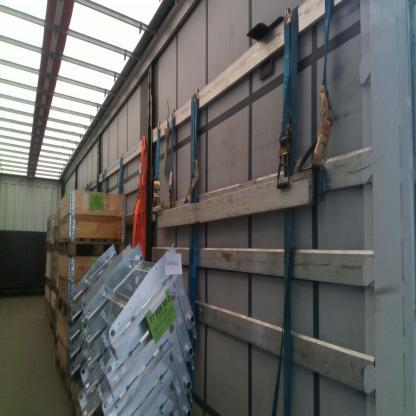pallet: (60, 240, 126, 259), (56, 352, 69, 398), (58, 294, 76, 327), (68, 377, 82, 416), (46, 240, 61, 256), (49, 319, 56, 349), (50, 278, 59, 298), (45, 275, 51, 291), (45, 312, 49, 325)
